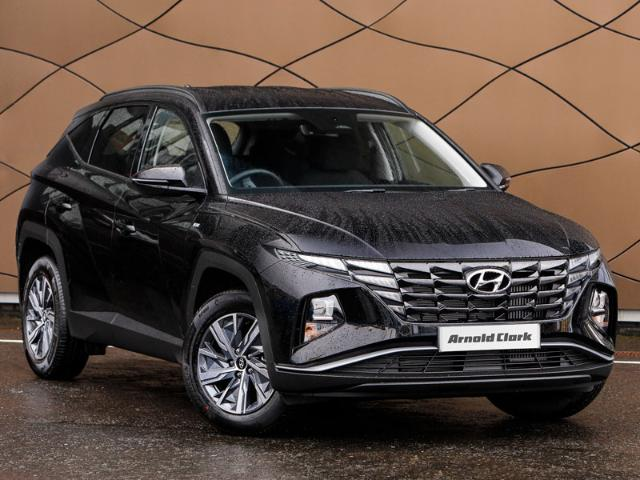hyundai: (14, 86, 620, 432)
